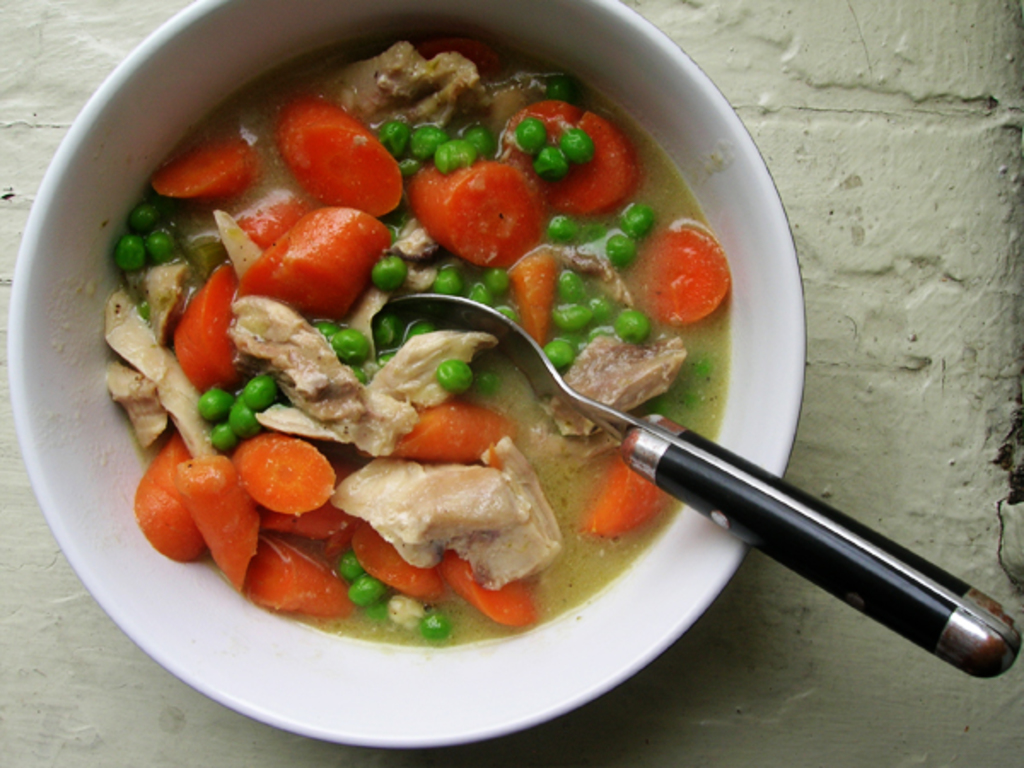Carrot: (131, 98, 725, 622), (237, 199, 390, 327), (225, 430, 312, 522)
